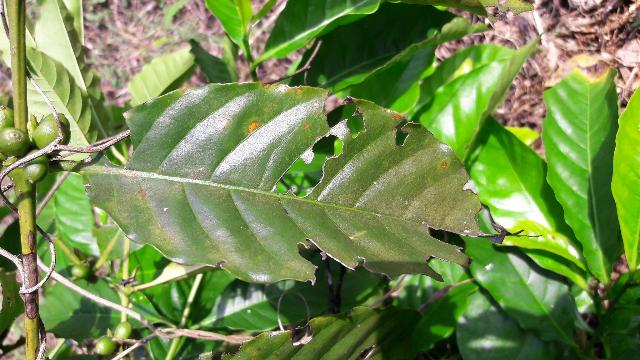rust_level_1: (84, 83, 484, 284)
